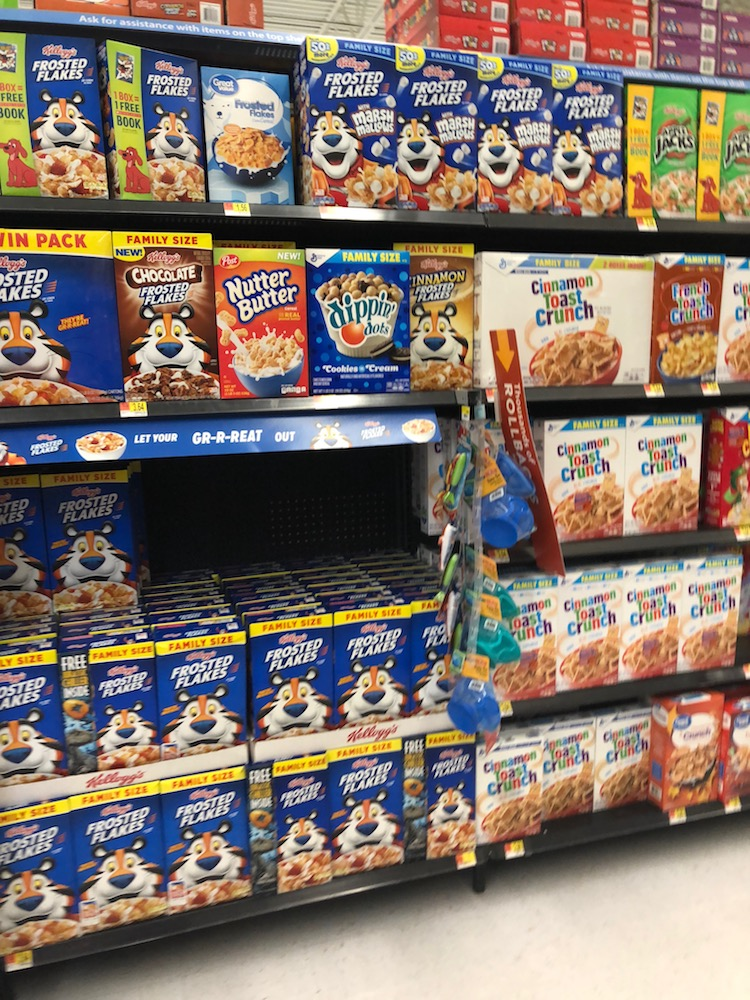Dippin Dots Cookies & Cream -568929378: (309, 252, 414, 393)
Nutter Butter-565717511: (215, 253, 310, 396)
